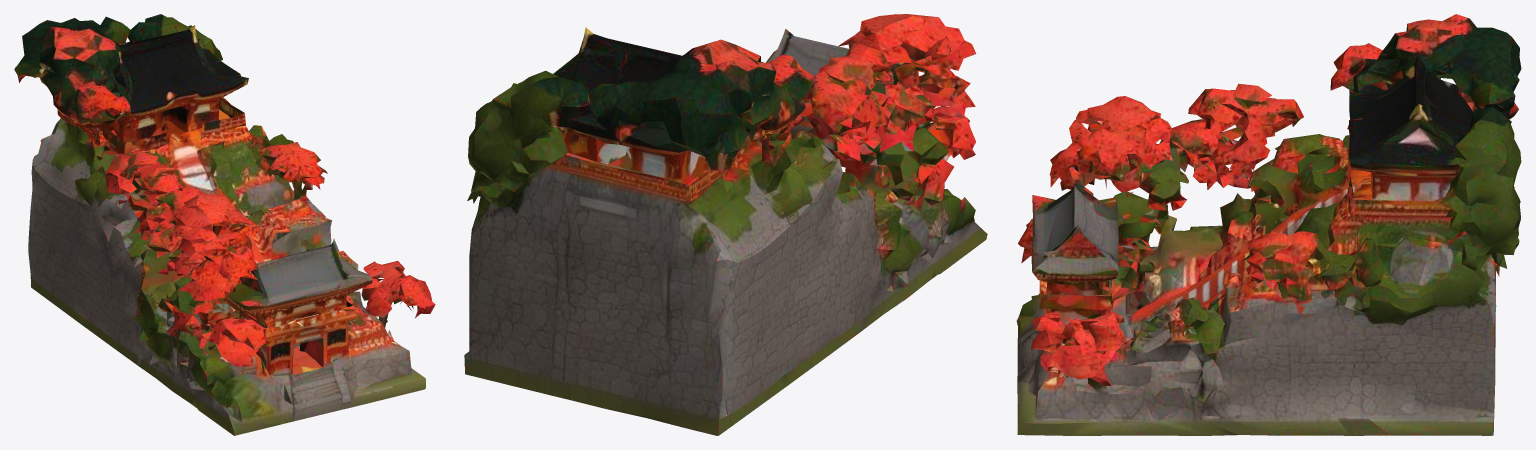
The model's file is katsuoji.glb.
3 renders of one model, left to right at view 1: azimuth 30°, elevation 25°; view 2: azimuth 150°, elevation 25°; view 3: azimuth 270°, elevation 25°, orthographic. The views are drawn at different scales.
Parts seen in each view (by area): view 1: logan-textured.obj; view 2: logan-textured.obj; view 3: logan-textured.obj.
Boxes of the visible parts, x1,y1,x2,y2 form: logan-textured.obj: [14, 14, 435, 435]; logan-textured.obj: [464, 14, 987, 435]; logan-textured.obj: [1016, 14, 1521, 435].
Bounding box in the file's own units: 0.6539 × 0.692 × 1.
Materials: 1 (1 with a texture image).
